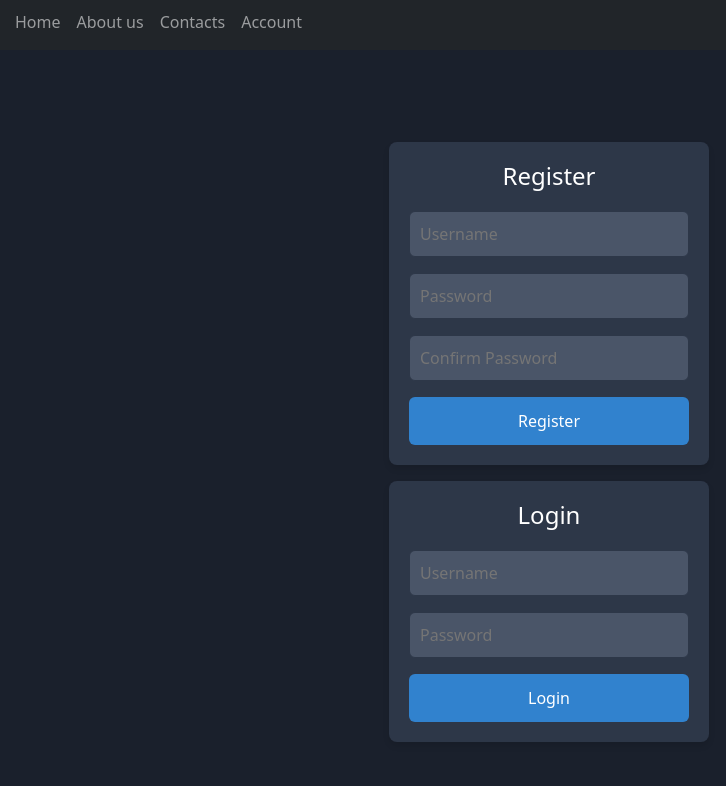
Test: Account Page › should show error message if passwords do not match
The width and height of the screenshot is (726, 786).
Type "testuser" into the field named "username". click: {"x": 549, "y": 234}
box: [409,211,689,257]
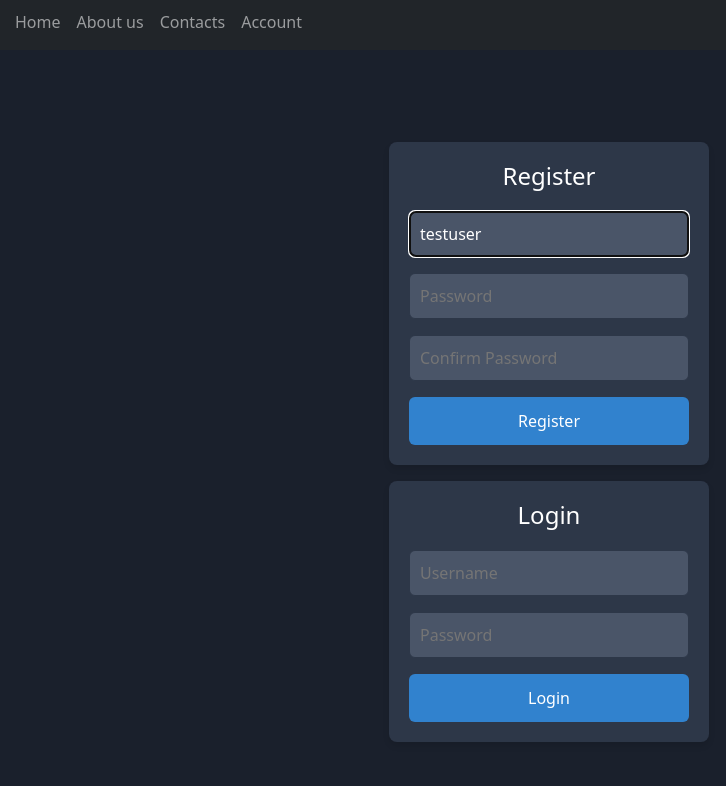
Type "password123" into the password field named "password". click: {"x": 549, "y": 296}
box: [409,273,689,319]
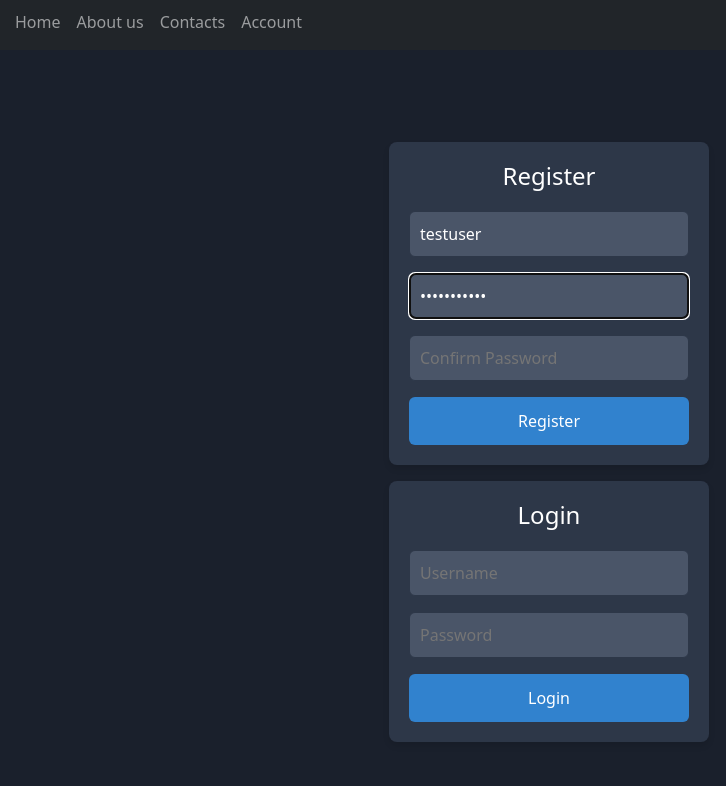
Type "wrongpassword" into the password field named "confirmPassword". click: {"x": 549, "y": 358}
box: [409,335,689,381]
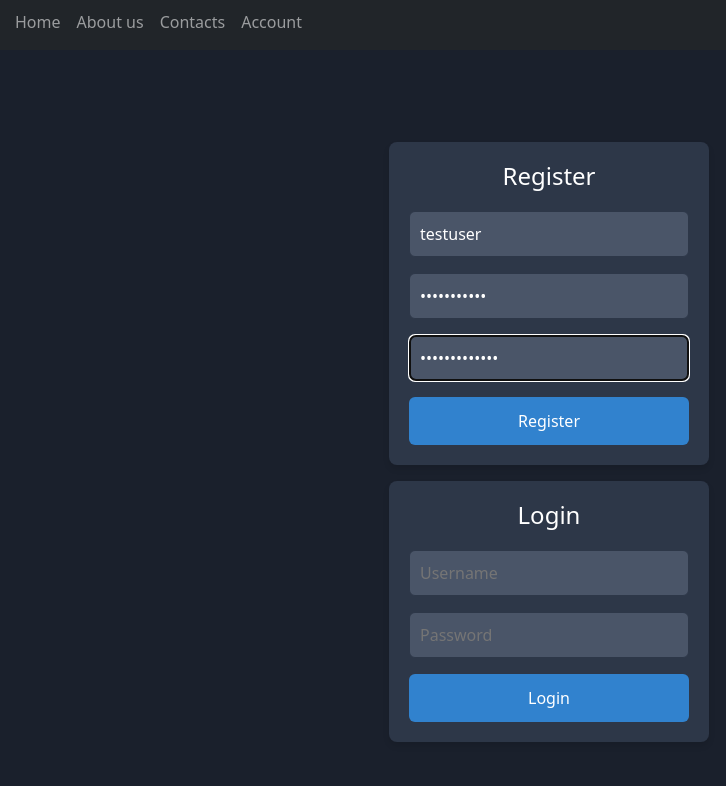
Click the button "Register". click: {"x": 549, "y": 421}
box: [409,397,689,445]
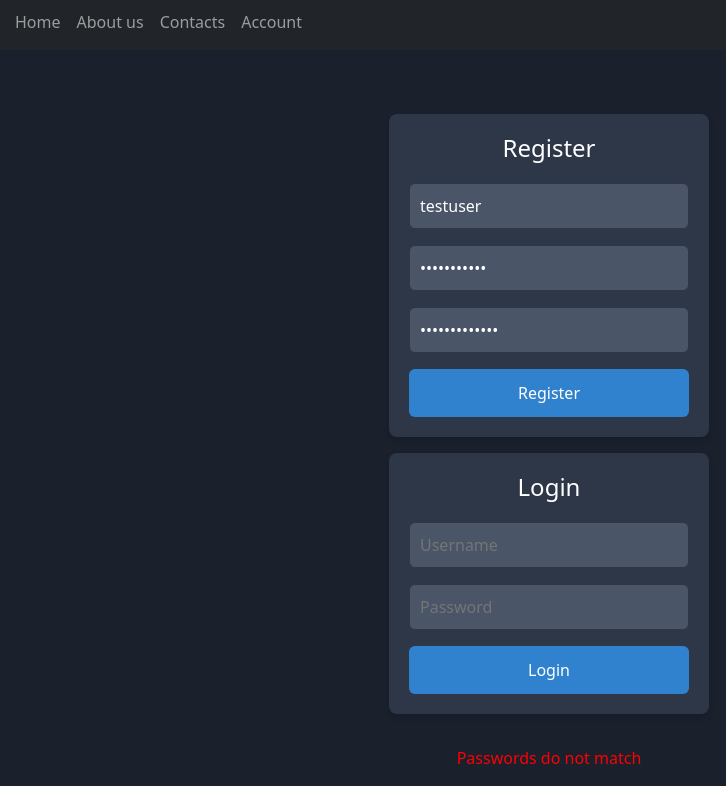
Result: the text "Passwords do not match" is shown at [457,746,641,770]
